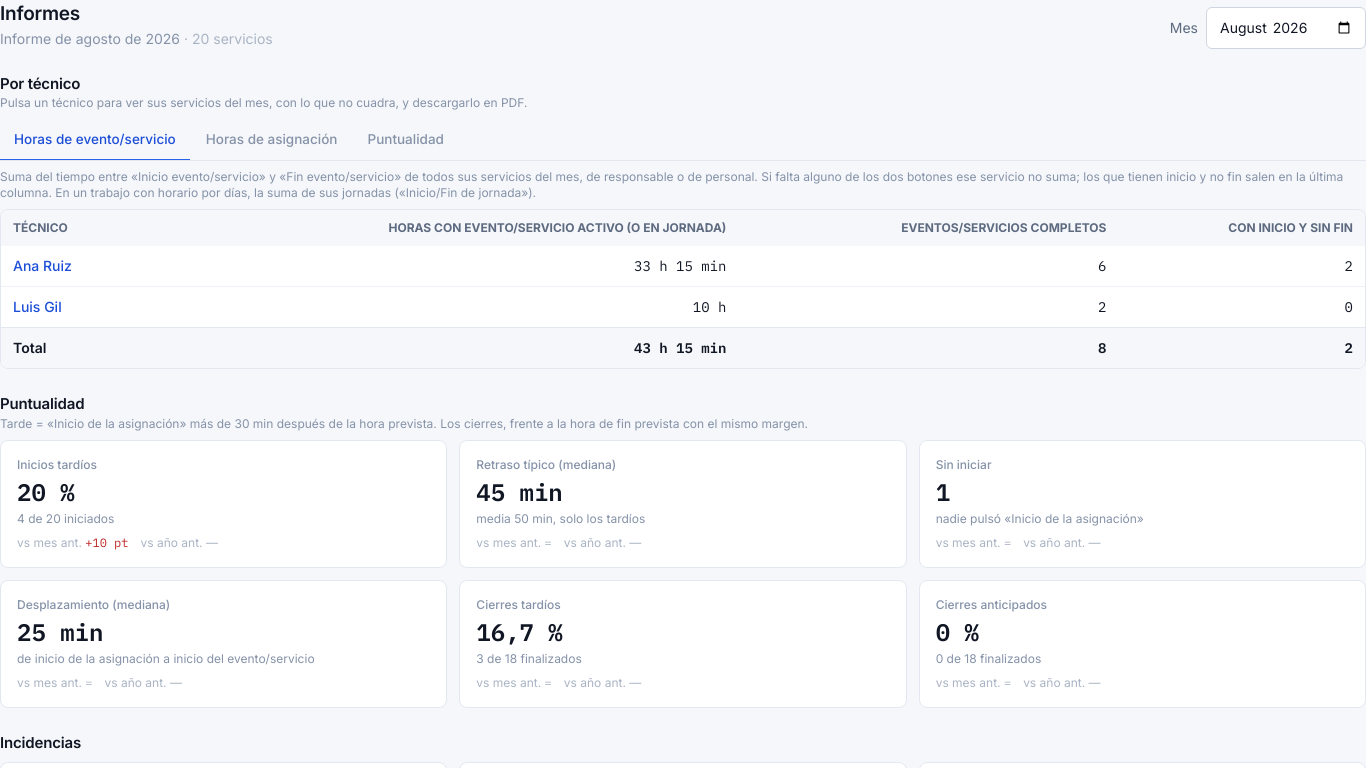
Test case: Informes · detalle de un técnico › pulsar el nombre abre sus servicios, marca los que no cuadran y lo apunta en la URL
The width and height of the screenshot is (1366, 768).
Click the button "Ana Ruiz" at [42, 266], box left=13, top=256, right=72, bottom=276
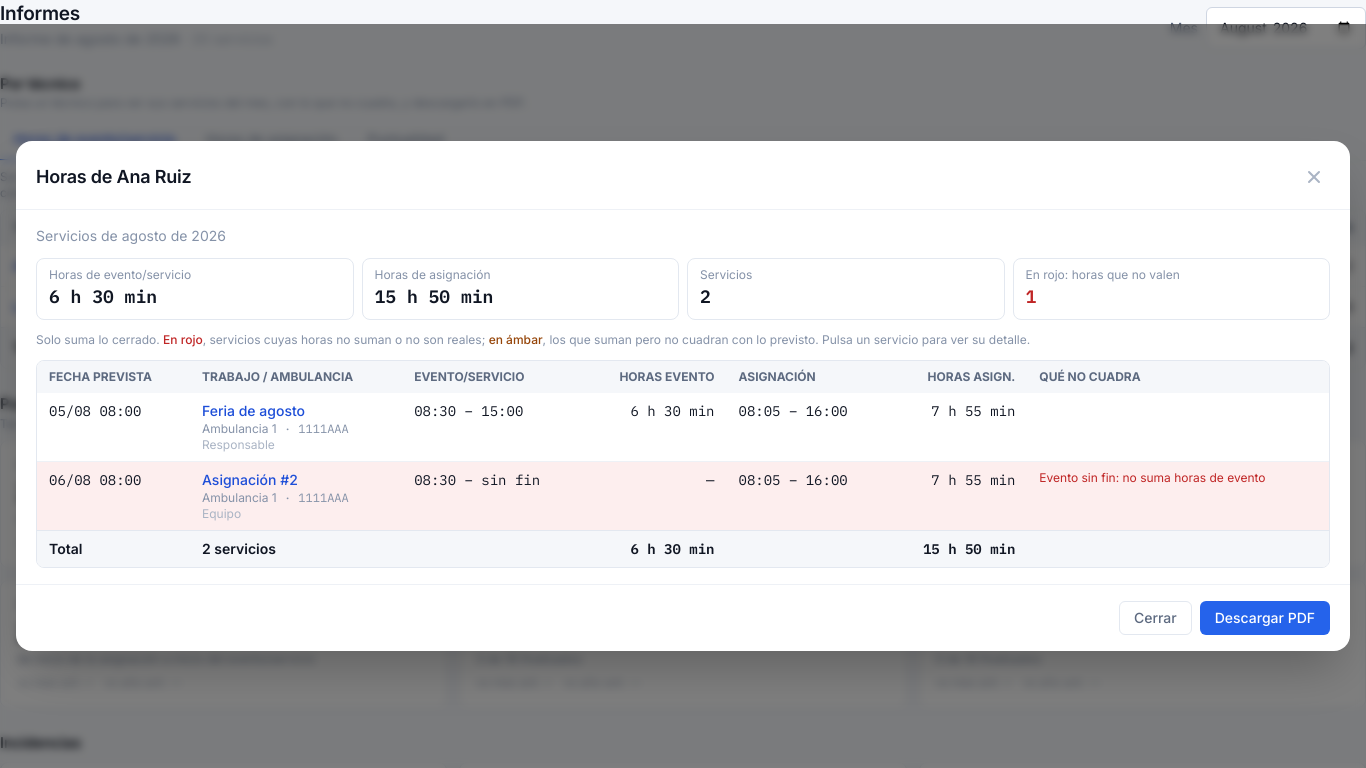
Now the button "Feria de agosto" is shown, box left=202, top=401, right=305, bottom=421
Now the heading "Horas de Ana Ruiz" is shown, box left=36, top=163, right=192, bottom=191
Now the text "08:30 – sin fin" is shown, box left=414, top=471, right=540, bottom=489
